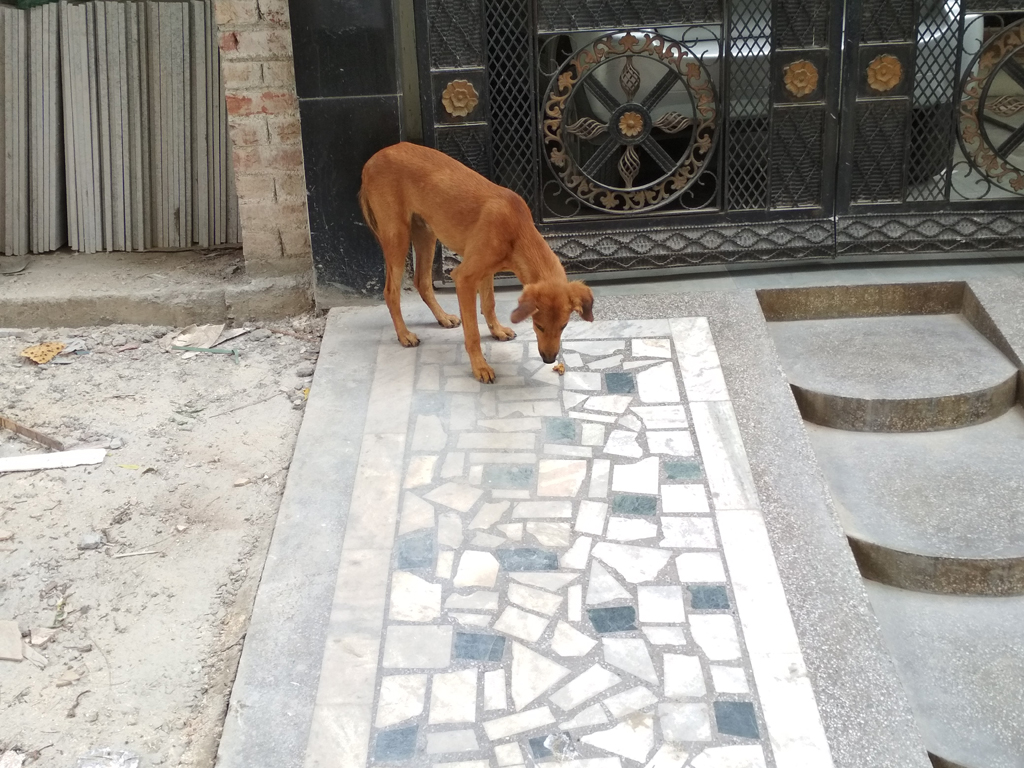dog: (359, 141, 591, 384)
